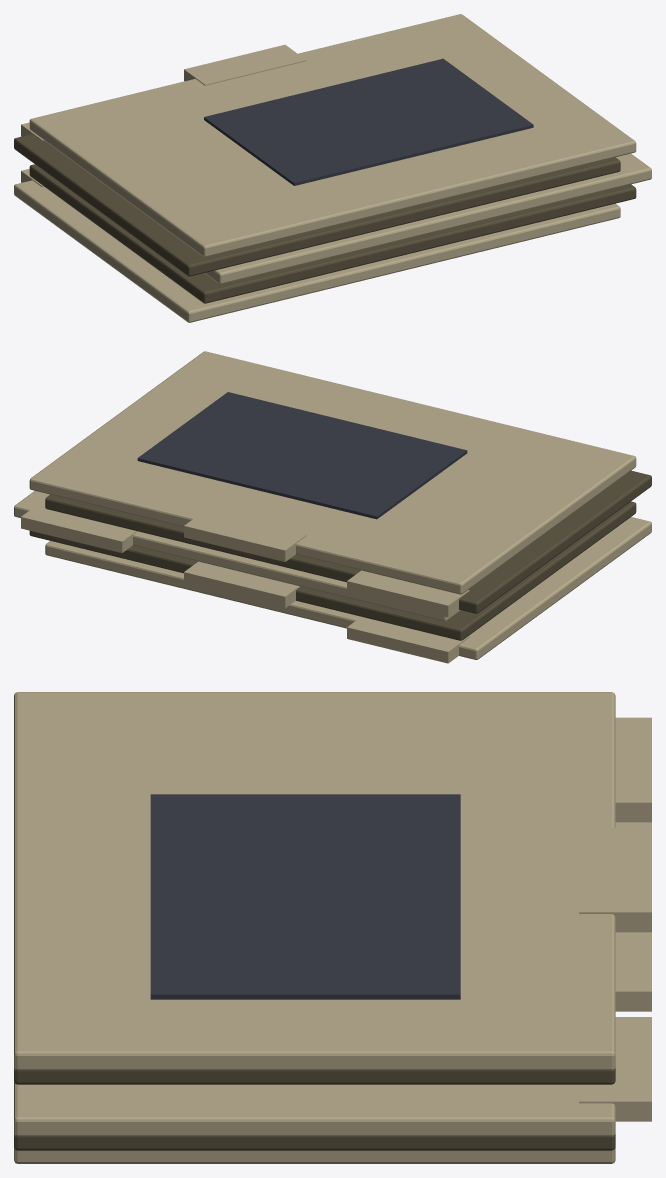
File: paperwork_folders.glb
The picture shows the model from 3 angles, top to bottom: view 1: azimuth 30°, elevation 25°; view 2: azimuth 150°, elevation 25°; view 3: azimuth 270°, elevation 25°; orthographic projection. The views are drawn at different scales.
Visible parts, largest first — view 1: paperwork_folders; view 2: paperwork_folders; view 3: paperwork_folders.
Part boxes in pixels (x1=…): paperwork_folders: x1=14, y1=14, x2=651, y2=322; paperwork_folders: x1=14, y1=351, x2=651, y2=663; paperwork_folders: x1=14, y1=692, x2=651, y2=1163.
Bounding box in the file's own units: 0.504 × 0.079 × 0.35.
